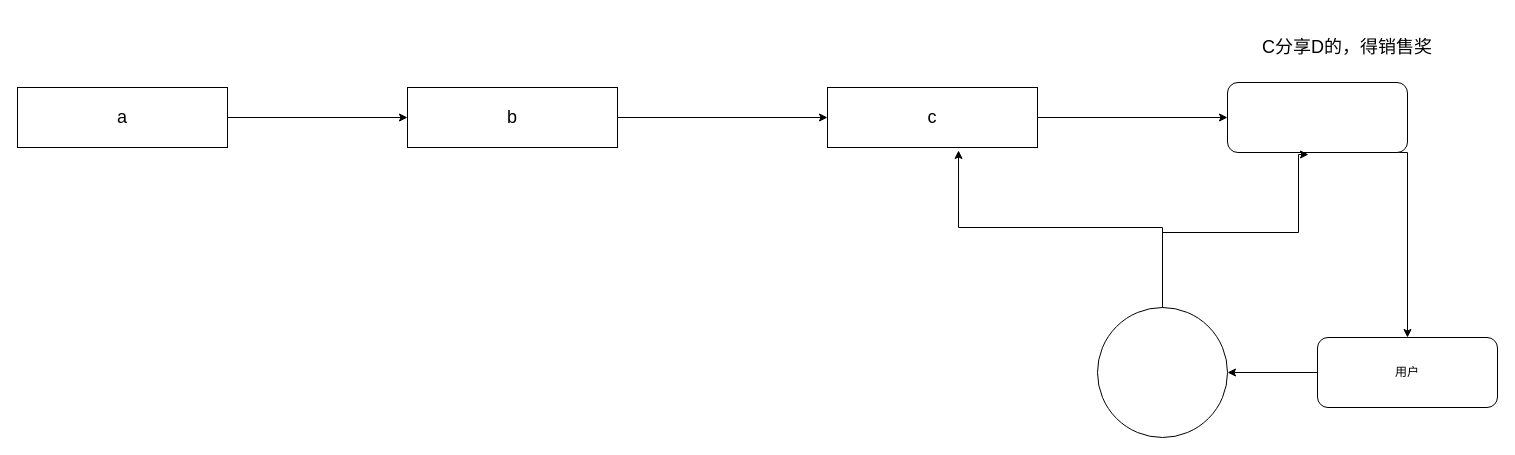
Image size: 1515x455. Some labels were removed from this diagram. The centre of each missing label's shape, as x and y in pixels:
D : 非代理: 分享: the point at 1317,117
商品A: the point at 1162,372
